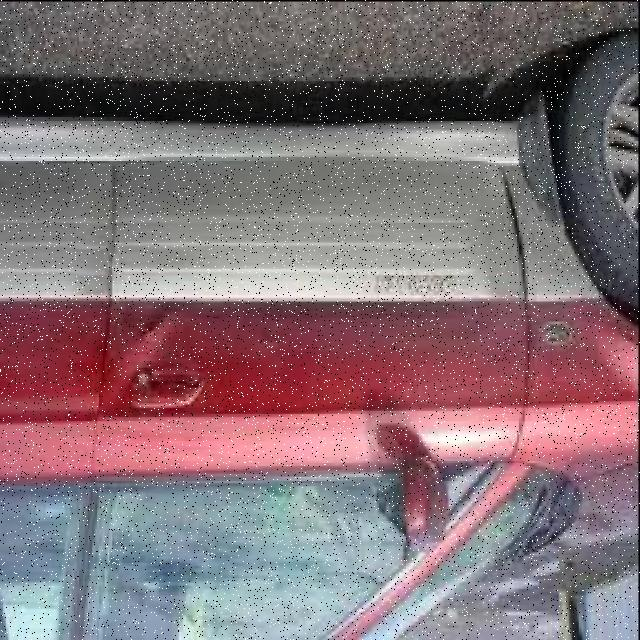damage: (97, 307, 180, 414)
